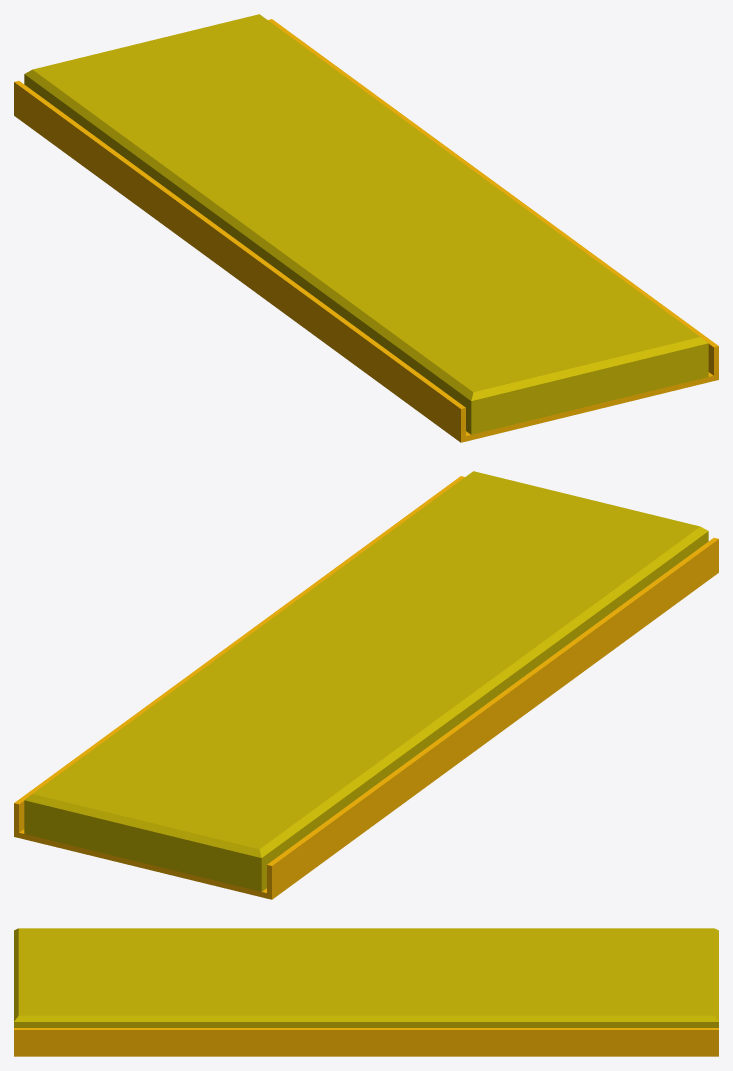
File: seat_bed_6x2.dae
3 views of the same model, one above another, from view 1: azimuth 30°, elevation 25°; view 2: azimuth 150°, elevation 25°; view 3: azimuth 270°, elevation 25° (orthographic). The views are drawn at different scales.
Visible parts, largest first — view 1: Cube; view 2: Cube; view 3: Cube.
Part boxes in pixels (box(x1,y1,x2,y2)): Cube: box(14, 14, 718, 442); Cube: box(14, 471, 718, 899); Cube: box(14, 928, 718, 1056).
Bounding box in the file's own units: 0.5 × 1.5 × 0.0825.
